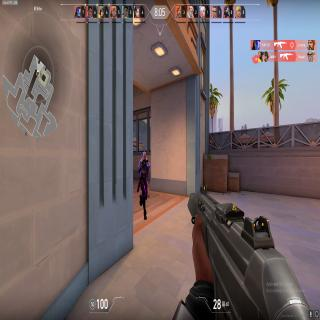ENEMY-BODY: (137, 150, 150, 222)
ENEMY-HEAD: (142, 151, 147, 161)
